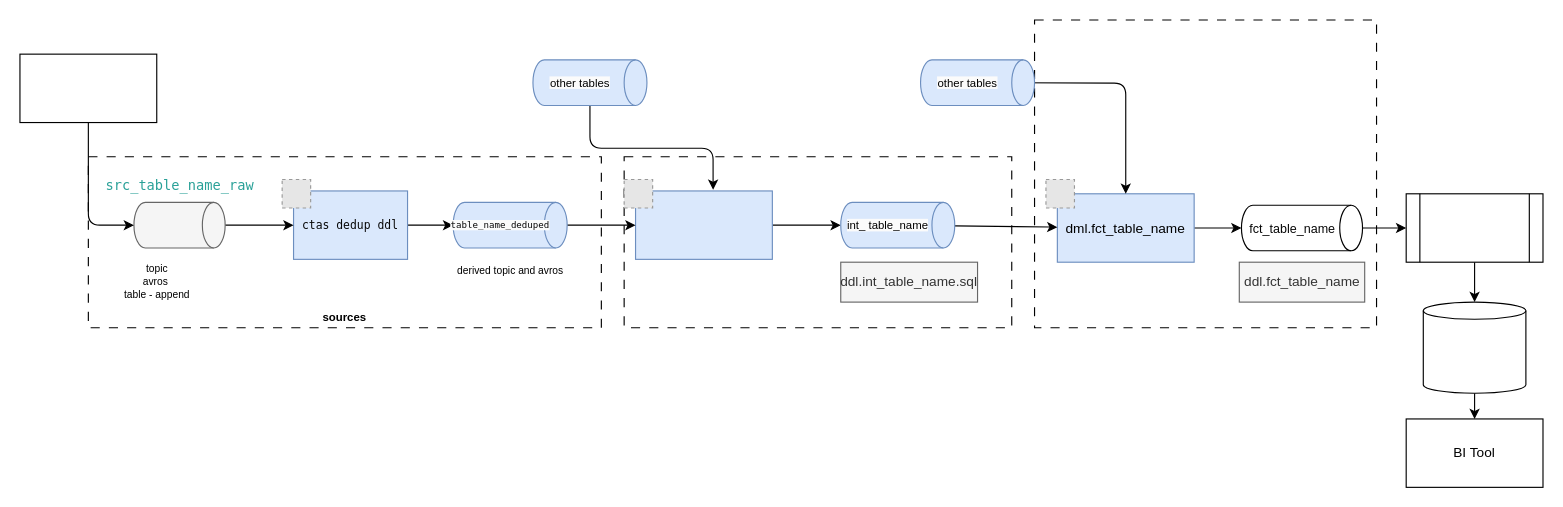
Some shapes in this 1563 by 507 pixel diagram are drawn without their labels. Grey dashed boxes stand in for pictures. The box of each missing label's shape, as (x1, y1, x2, y2) in pixels:
CDC Debezium Source Connector: (19, 53, 157, 123)
intermediate dml [OPTIONAL]: (634, 190, 772, 259)
intermediates: (623, 156, 1012, 328)
Kafka Connector Postgresql Sink: (1405, 193, 1543, 262)
Postgresql fct_table_name: (1422, 301, 1526, 393)
Sink: (1033, 19, 1377, 328)
